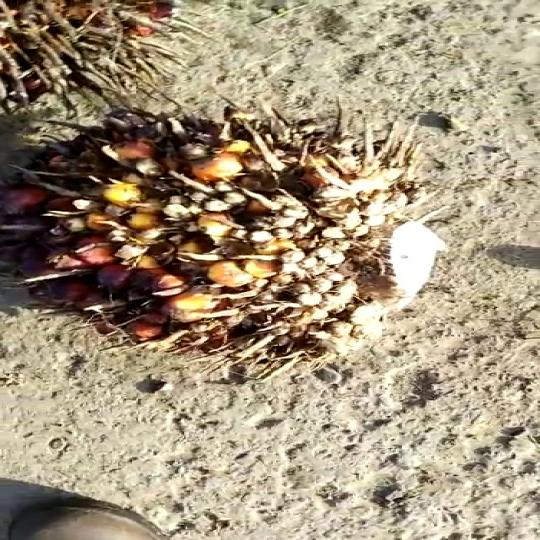masak: (0, 101, 456, 361)
